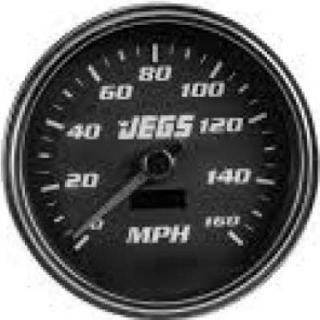gauge: (0, 0, 320, 320), (210, 216, 260, 260), (139, 148, 177, 182), (64, 225, 98, 255), (67, 230, 83, 247)
